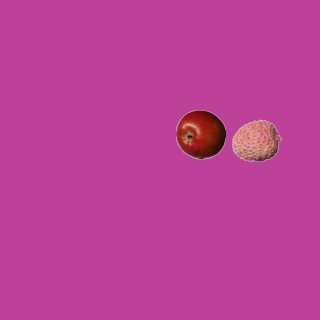Apple Braeburn: (175, 109, 225, 159)
Lychee: (231, 115, 281, 165)
